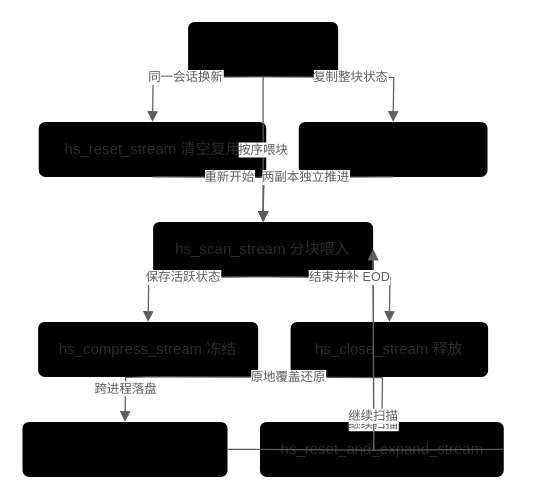
The diagram is 535 pixels wide and 499 high, and some of its shapes have lost their labels. Each missing label, with the centre of its shape:
"hs_copy_stream 分叉" belongs at (x=393, y=149).
"hs_expand_stream 新建" belongs at (x=124, y=449).
"hs_open_stream" belongs at (x=262, y=49).
